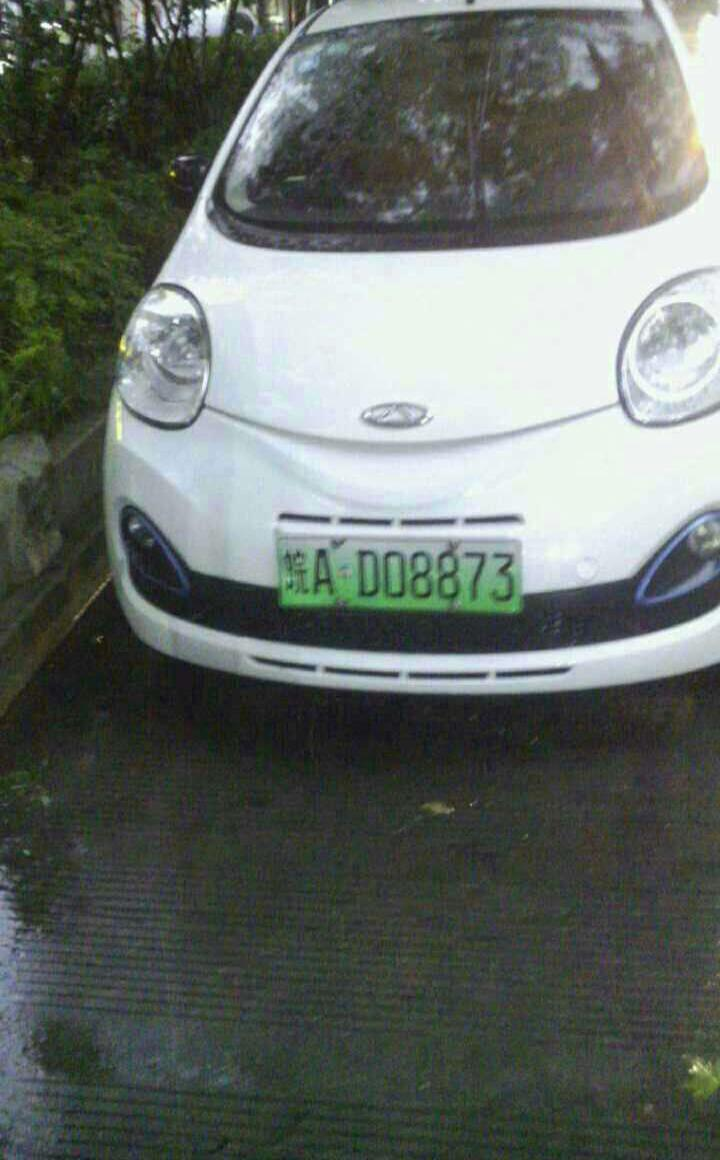car_id: (279, 532, 522, 613)
